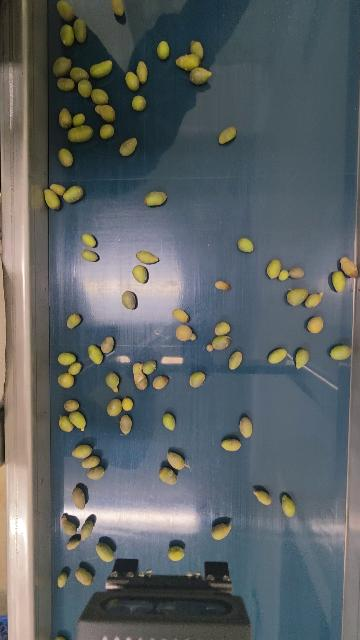Baby Potato: (184, 66, 214, 86), (66, 126, 94, 144), (210, 521, 232, 543), (328, 343, 351, 364), (166, 449, 187, 472), (339, 256, 360, 278), (74, 566, 95, 588), (131, 363, 148, 390), (68, 440, 92, 459), (93, 103, 116, 122), (144, 190, 168, 208), (57, 414, 74, 439), (305, 313, 325, 334), (90, 60, 112, 79), (42, 188, 61, 210), (206, 336, 232, 352), (136, 248, 160, 265), (284, 288, 308, 305), (279, 495, 296, 519), (174, 55, 203, 69), (52, 55, 71, 76), (216, 126, 237, 145), (175, 323, 196, 342), (64, 185, 85, 203), (158, 467, 179, 485), (238, 417, 255, 439), (59, 515, 77, 535), (86, 345, 103, 366), (136, 60, 150, 85), (57, 1, 75, 20), (118, 138, 136, 157), (252, 489, 272, 506), (67, 66, 88, 82), (123, 69, 139, 90), (132, 263, 148, 284), (121, 289, 137, 310), (71, 411, 87, 432), (84, 465, 105, 481), (219, 438, 241, 453), (96, 543, 114, 561), (306, 291, 323, 310), (61, 24, 75, 47), (77, 78, 93, 98), (89, 89, 110, 104), (70, 488, 85, 509), (187, 372, 205, 389), (56, 109, 72, 128), (268, 347, 287, 363), (167, 546, 186, 562), (78, 521, 94, 540), (54, 76, 74, 91), (228, 351, 243, 371), (74, 19, 87, 42), (267, 258, 280, 281), (105, 372, 119, 393), (129, 92, 146, 109), (190, 40, 205, 59), (295, 349, 309, 369), (333, 272, 346, 293), (58, 372, 74, 389), (237, 238, 254, 254), (99, 336, 114, 354), (172, 309, 190, 324), (107, 397, 121, 416), (119, 414, 132, 434), (152, 374, 168, 390), (100, 124, 115, 141), (66, 314, 83, 329), (64, 535, 81, 550), (59, 148, 73, 166), (163, 413, 177, 431), (57, 353, 76, 366), (80, 456, 99, 469), (157, 40, 169, 60), (79, 250, 99, 262), (288, 265, 304, 280), (63, 399, 81, 412), (213, 322, 231, 335), (82, 233, 97, 248), (142, 360, 157, 375), (111, 0, 125, 16), (214, 279, 231, 291), (67, 361, 81, 375), (73, 111, 85, 127), (50, 183, 66, 195), (57, 573, 67, 589), (277, 269, 289, 282), (121, 399, 133, 412)
